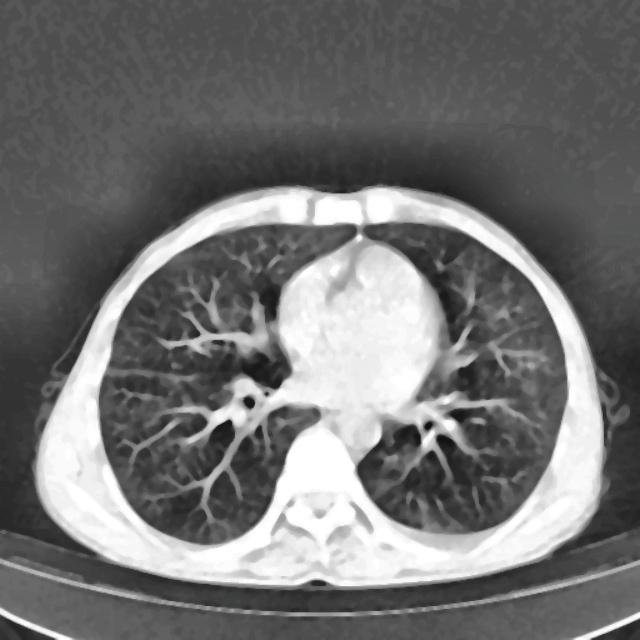covid: (32, 183, 621, 589)
